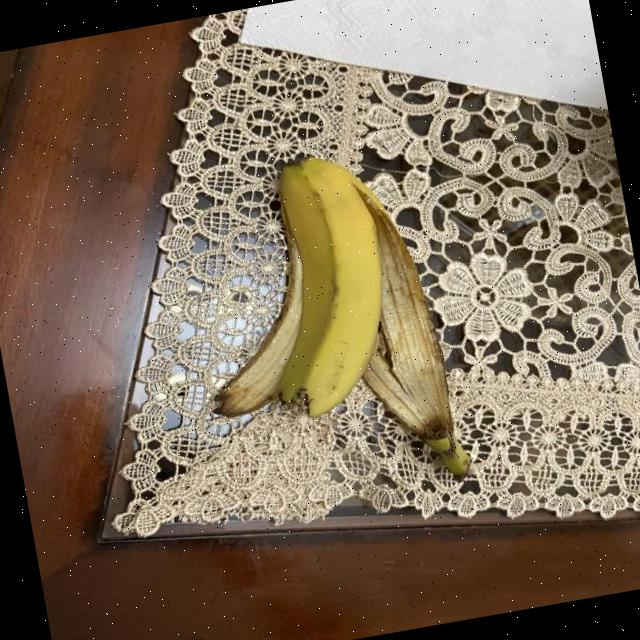banana-peel: (173, 134, 472, 516), (325, 158, 472, 489), (238, 145, 407, 423)
